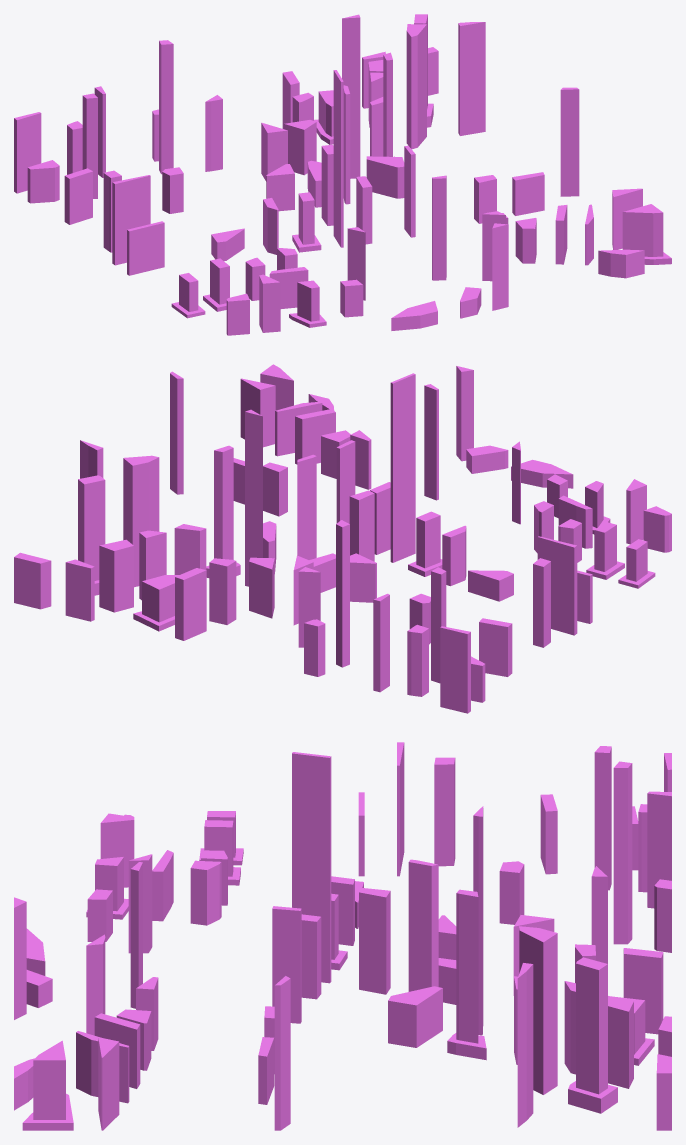
The model's file is buildings_00079.obj.
3 views of the same model, one above another, from view 1: azimuth 30°, elevation 25°; view 2: azimuth 150°, elevation 25°; view 3: azimuth 270°, elevation 25° (orthographic). The views are drawn at different scales.
Bounding box in the file's own units: 1460 × 552 × 1460.
